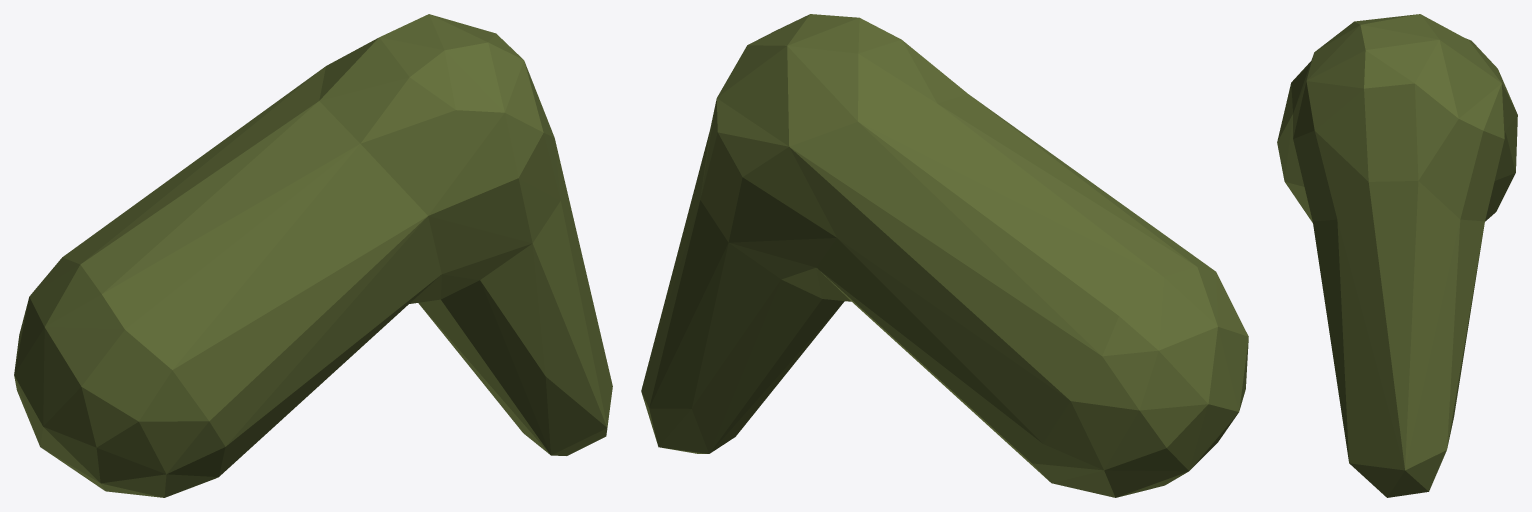
File: animal_iguana_blob_leg.obj
The picture shows the model from 3 angles, left to right: view 1: azimuth 30°, elevation 25°; view 2: azimuth 150°, elevation 25°; view 3: azimuth 270°, elevation 25°; orthographic projection. The views are drawn at different scales.
Parts seen in each view (by area): view 1: animal_iguana_leg; view 2: animal_iguana_leg; view 3: animal_iguana_leg.
Boxes of the visible parts, x1=… form: animal_iguana_leg: x1=14, y1=14, x2=612, y2=497; animal_iguana_leg: x1=641, y1=14, x2=1248, y2=497; animal_iguana_leg: x1=1277, y1=14, x2=1517, y2=497.
Size of the model in its own units: 0.1546 by 0.1153 by 0.0615.
